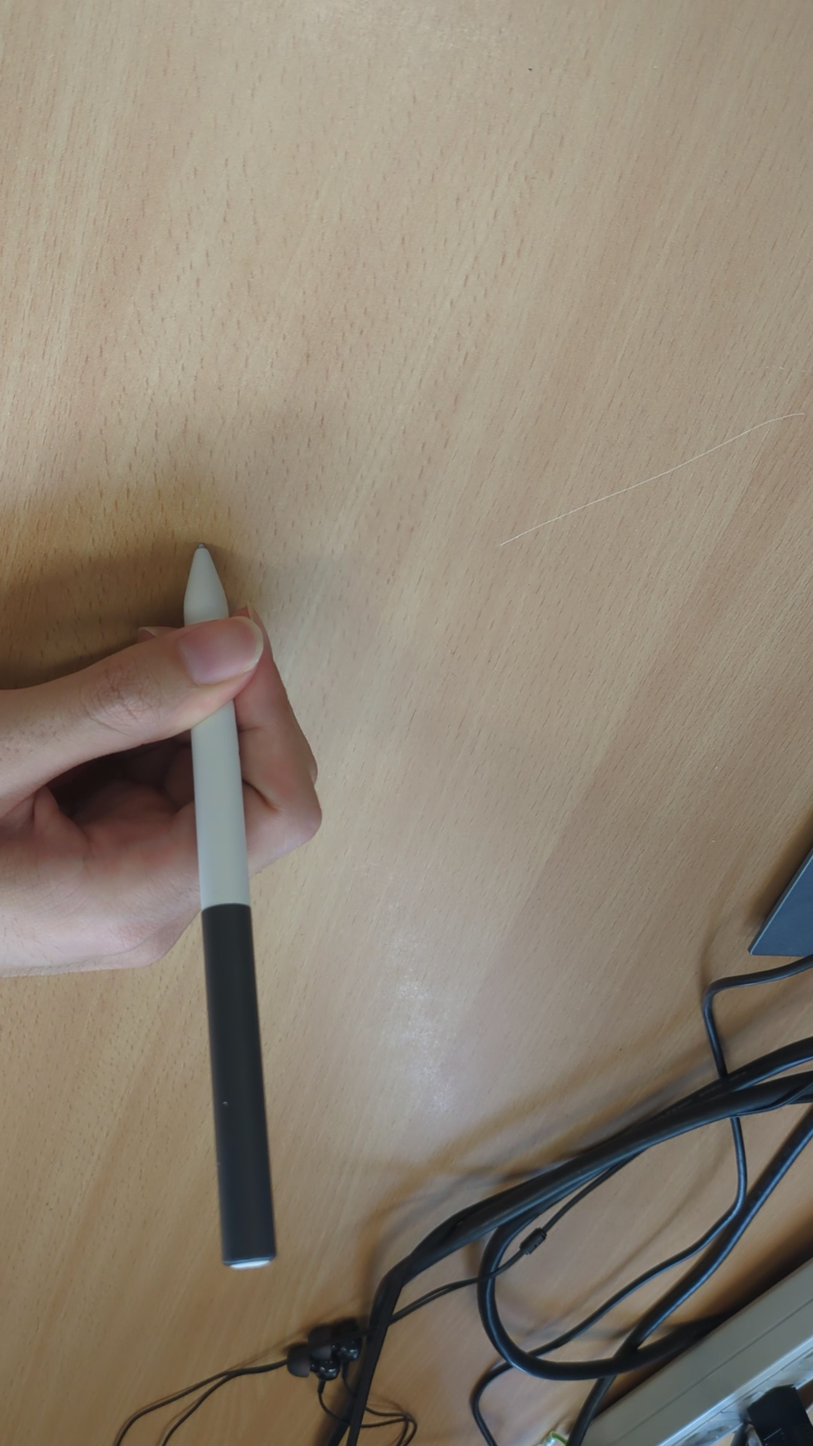pen: (180, 540, 280, 1274)
tip: (189, 541, 212, 559)
